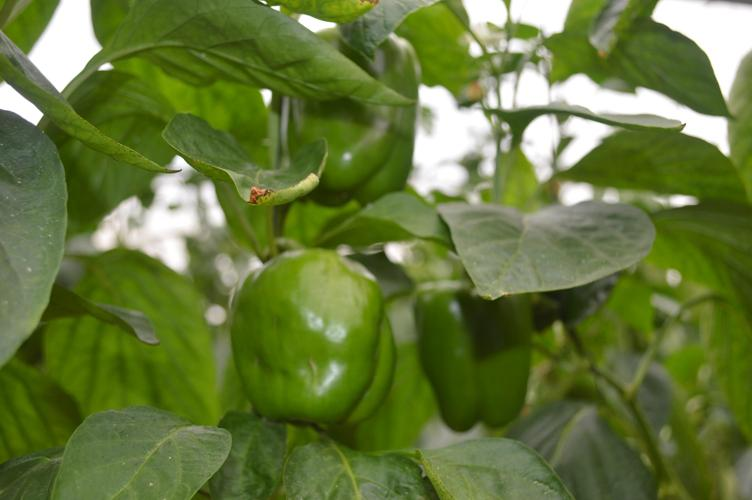BellPepper: (227, 251, 394, 420), (285, 33, 417, 199), (403, 282, 531, 427)
